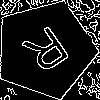R: (20, 24, 78, 82)
